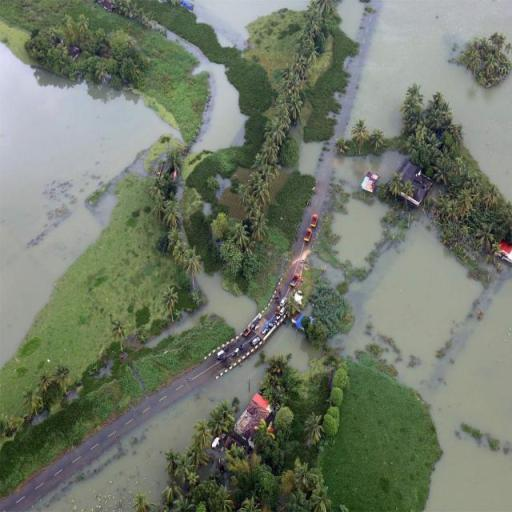flood: (0, 42, 177, 371), (28, 324, 310, 512), (352, 0, 512, 206), (424, 278, 512, 512), (358, 218, 482, 361), (144, 274, 258, 350), (181, 41, 247, 154), (190, 0, 314, 51)
house: (392, 153, 438, 208), (235, 391, 276, 442), (494, 234, 512, 268)
